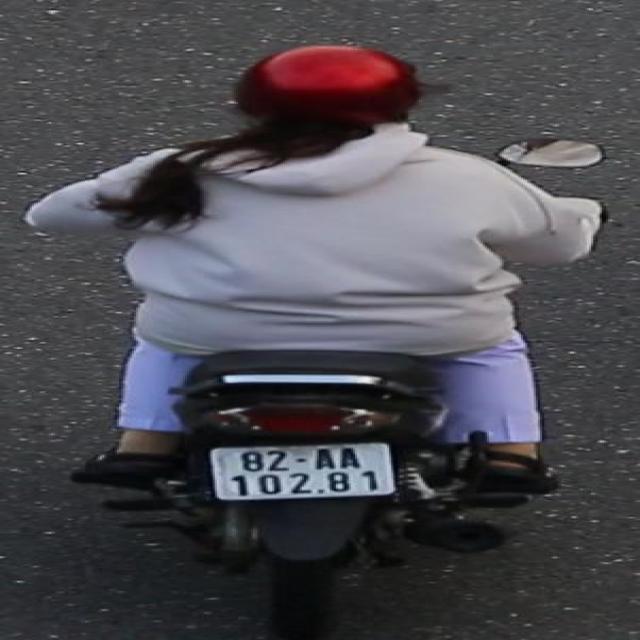LP: (201, 440, 407, 504)
helmet: (214, 39, 439, 167)
